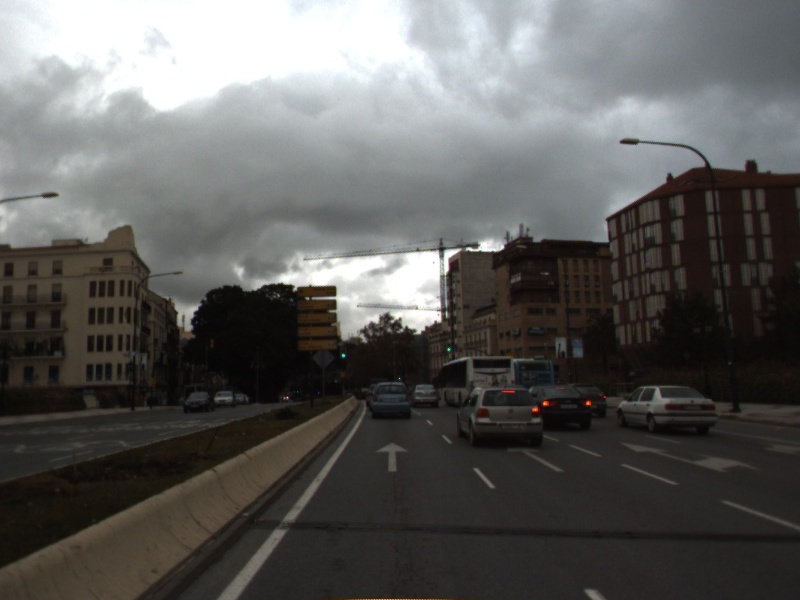STRAIGHT: (505, 445, 567, 474), (374, 440, 412, 473)
STRAIGHT_RIGHT: (617, 438, 765, 475)
